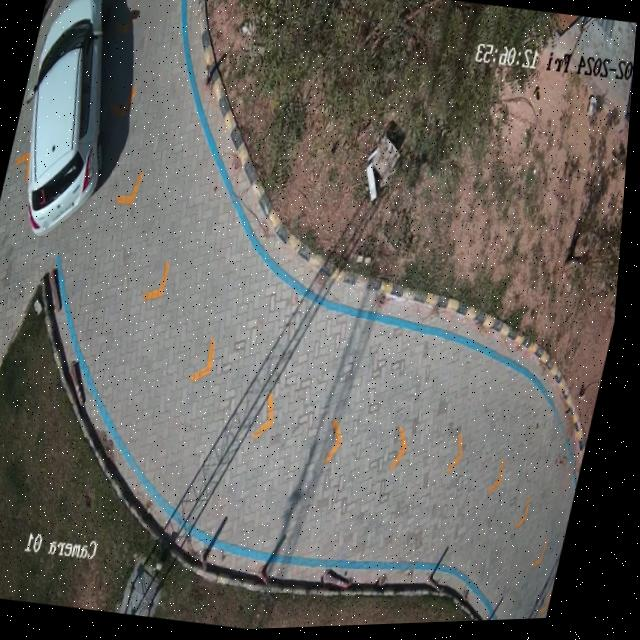car: (30, 0, 104, 236)
